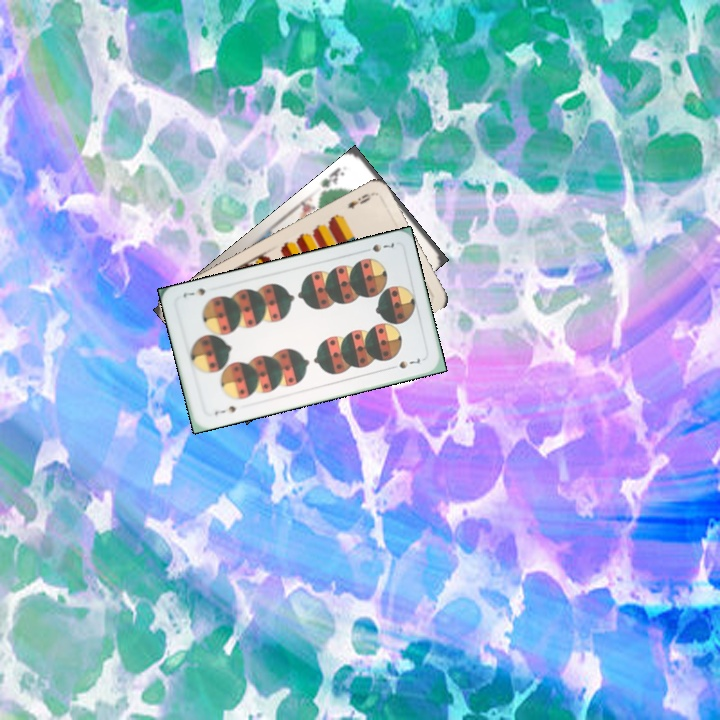E9: (344, 189, 375, 211)
GK: (317, 163, 347, 194)
S7: (358, 238, 397, 255), (210, 401, 239, 418)
